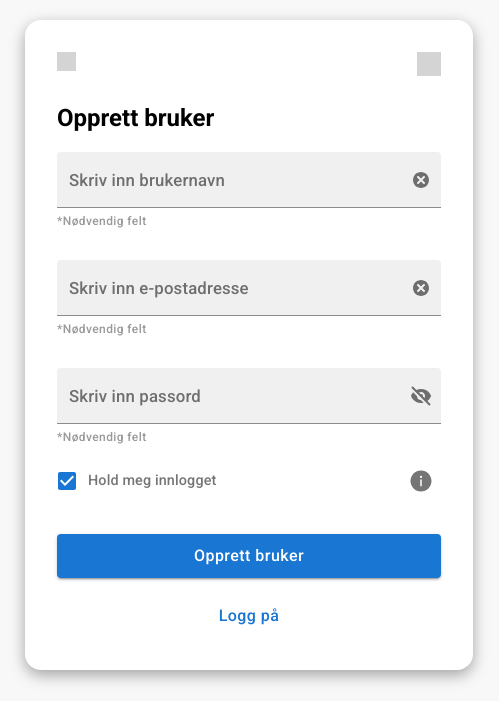
it: Should show error message for short username
Type "d" into the field labelled "Skriv inn brukernavn". click: (225, 180)
box: top-left (57, 152), bottom-right (393, 208)
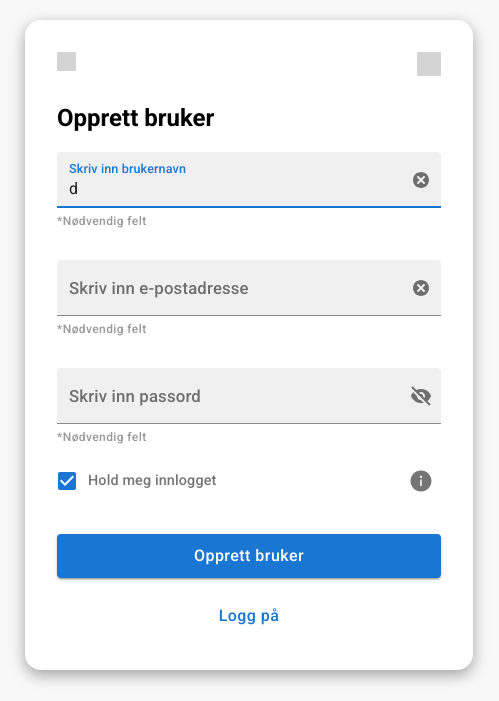
Click the button "Opprett bruker". click: (249, 556)
box: top-left (57, 534), bottom-right (441, 578)
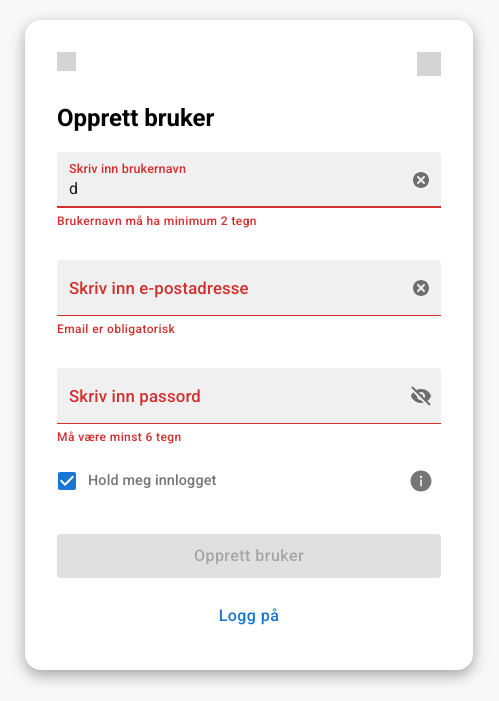
Check: the text "Brukernavn må ha minimum 2 tegn" is shown, box top-left (57, 214), bottom-right (257, 228)
